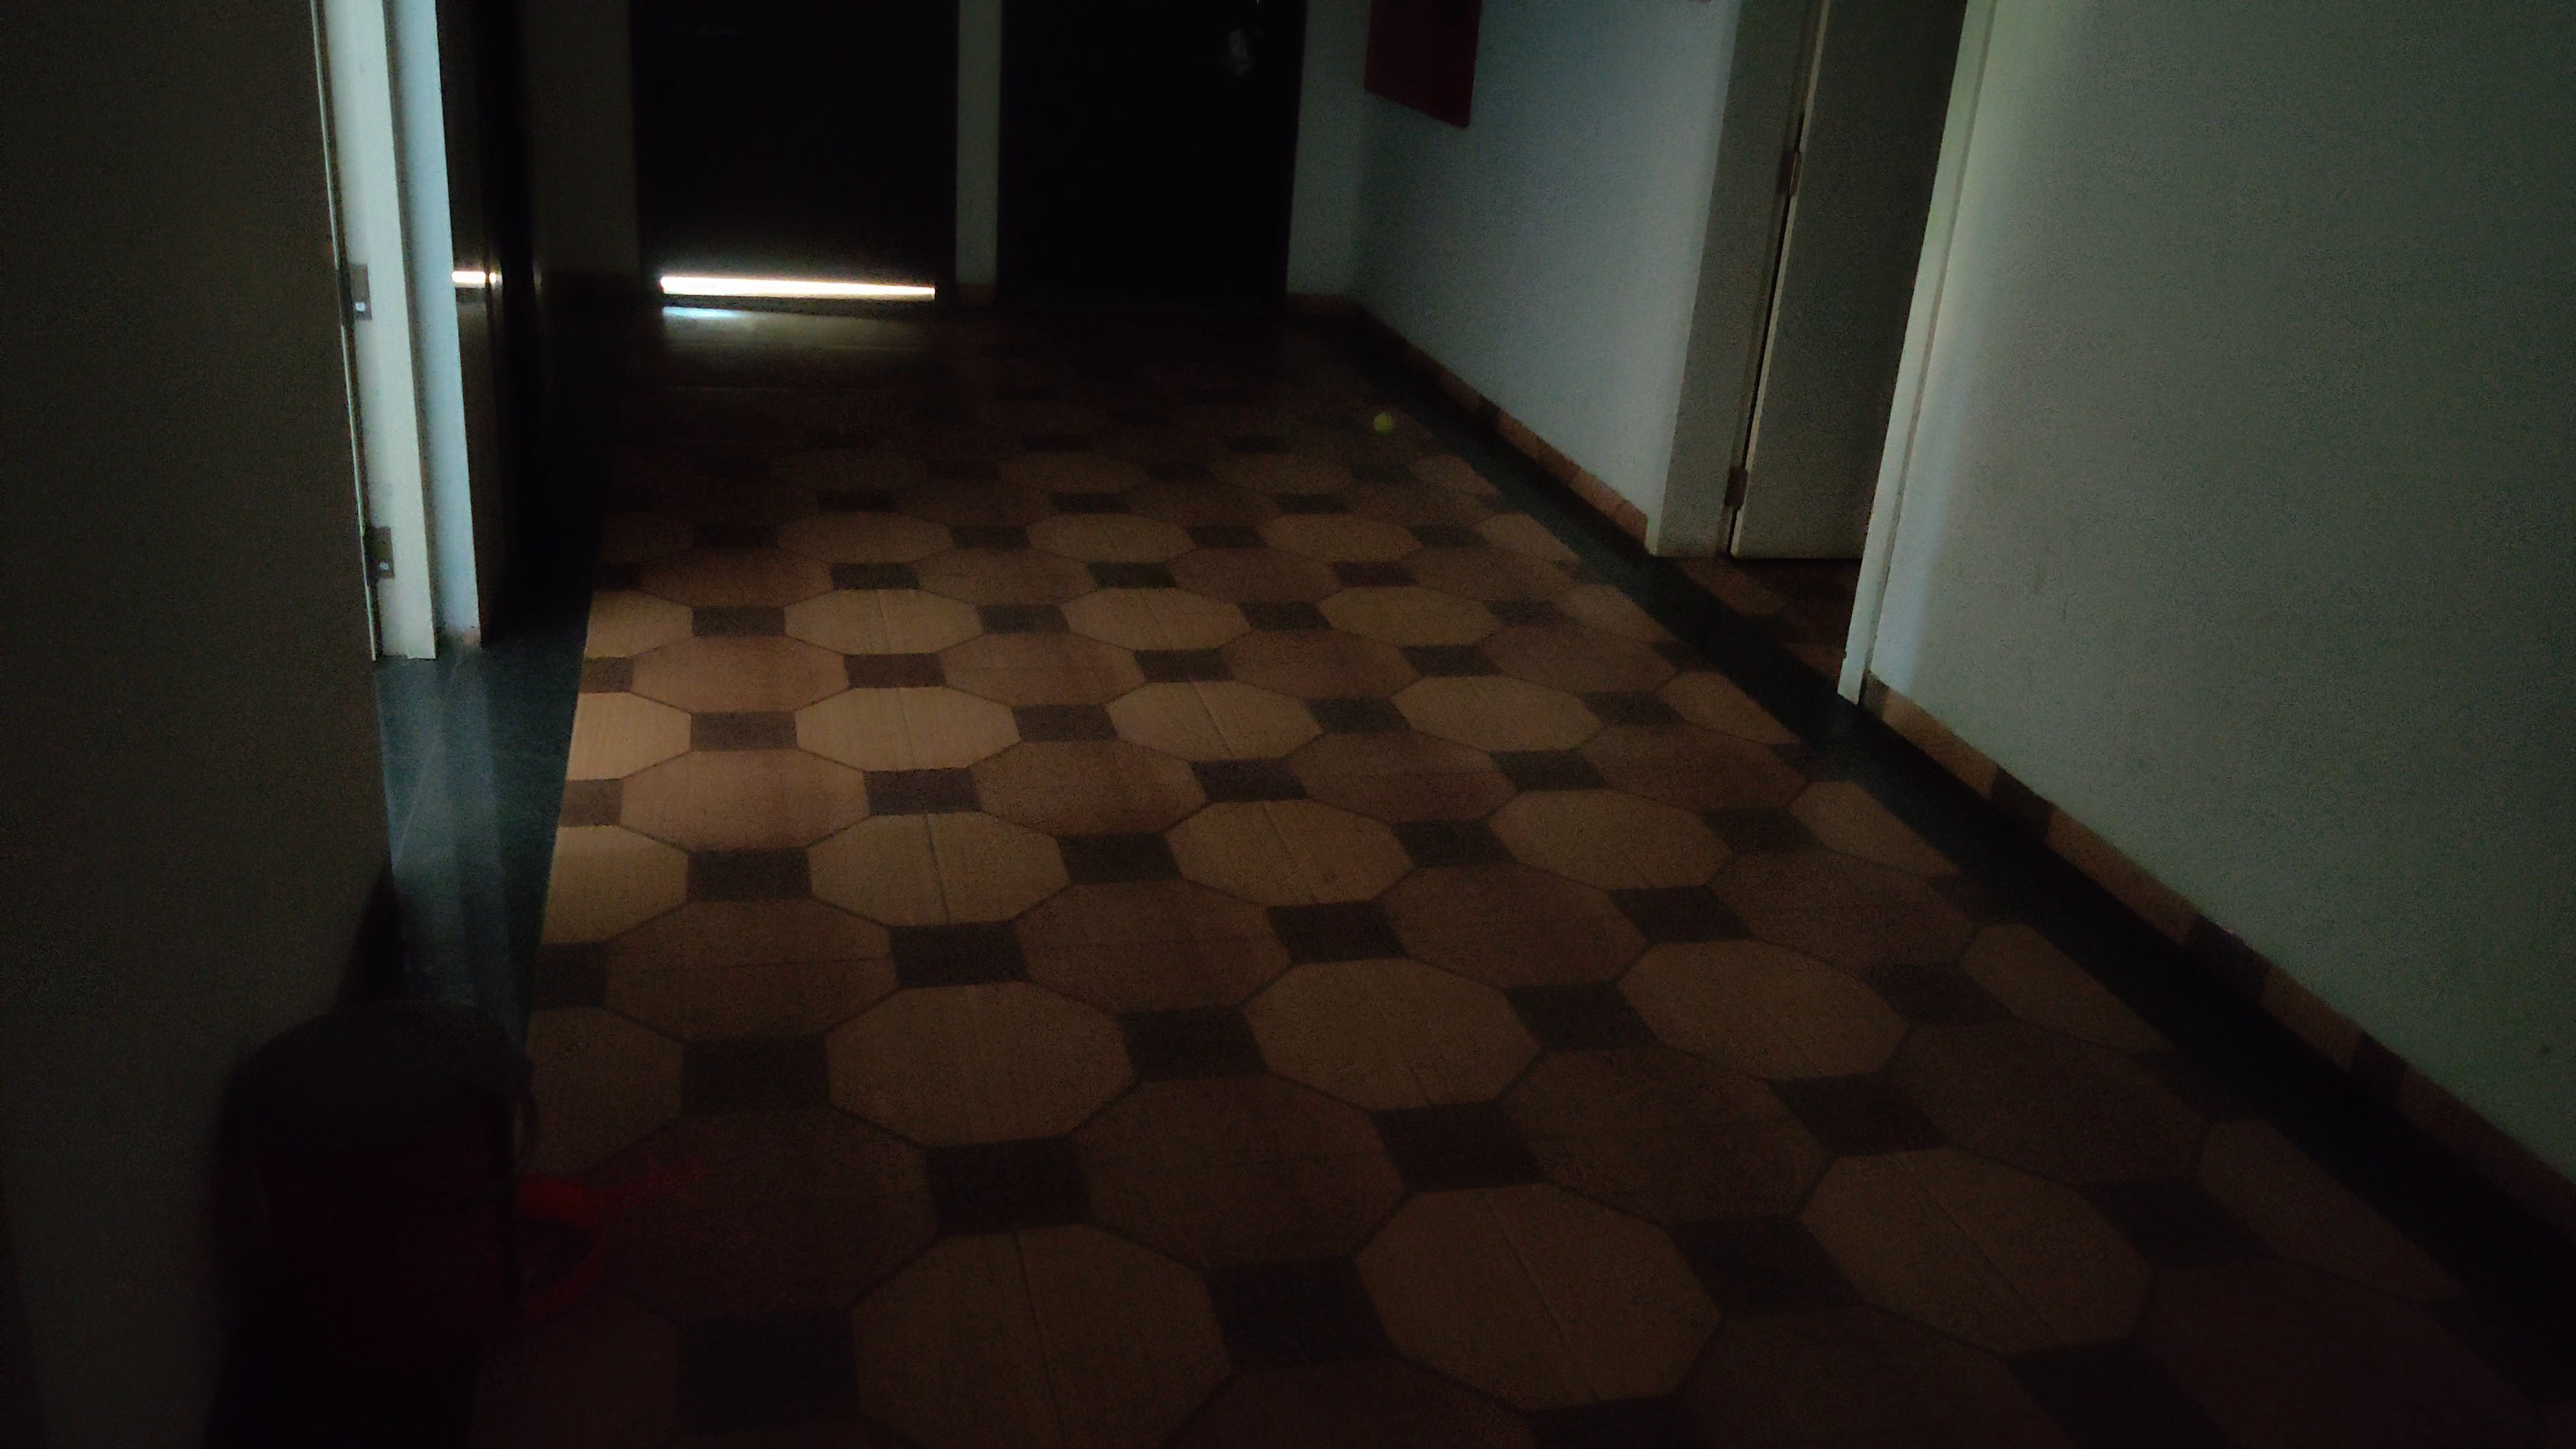Tennis-Ball: (1373, 412, 1396, 433)
